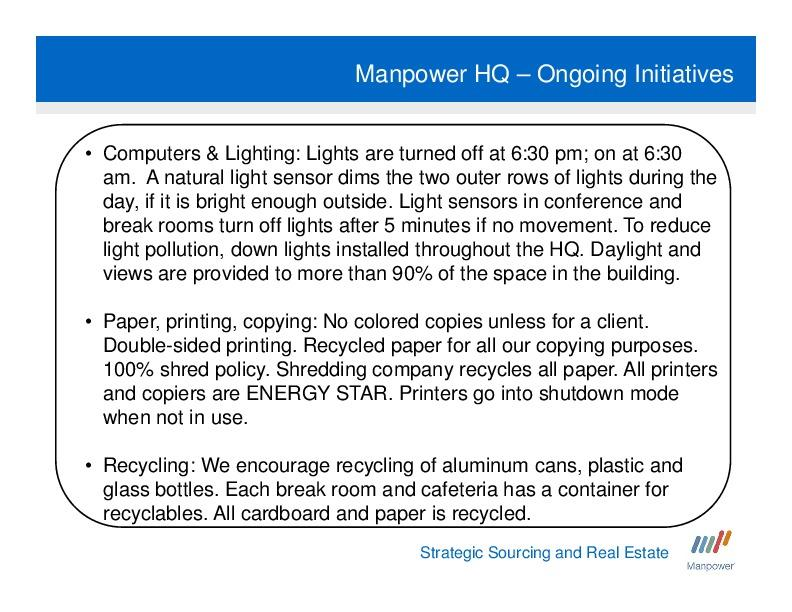paragraph: (71, 121, 753, 535)
subtitle: (412, 541, 684, 565)
title: (348, 48, 744, 97)
